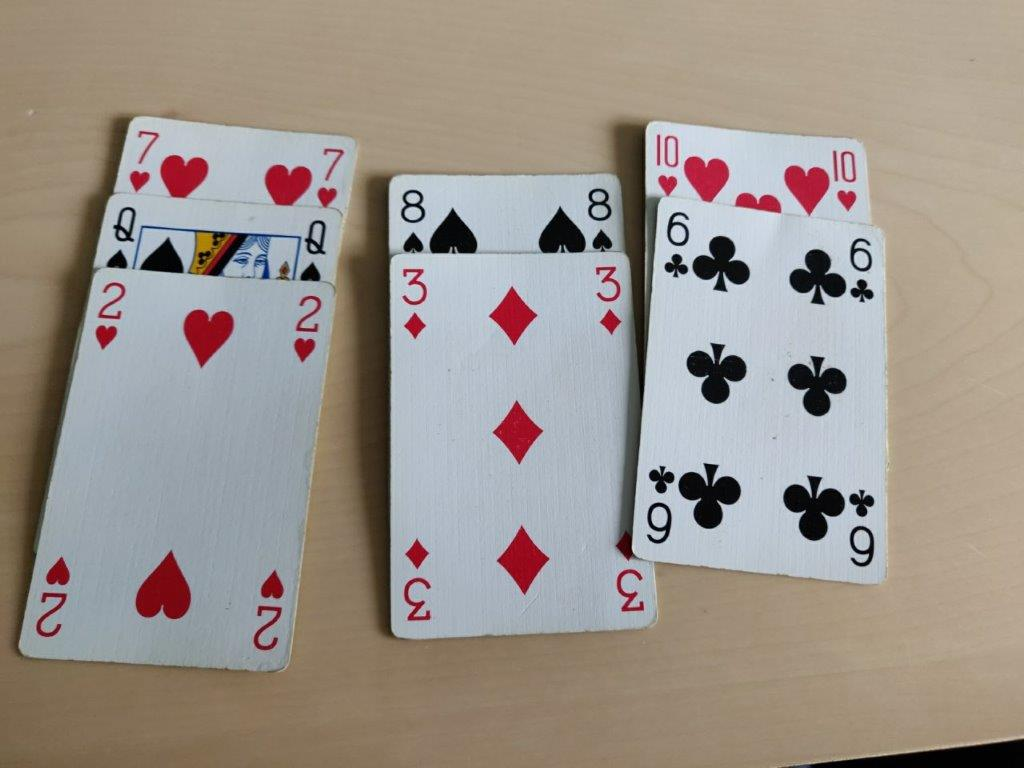10H: (654, 128, 684, 197), (829, 145, 859, 214)
2H: (91, 279, 129, 353), (286, 290, 324, 364)
3D: (395, 264, 433, 346), (591, 265, 629, 347)
6C: (662, 207, 692, 287), (846, 231, 876, 311)
7H: (126, 122, 160, 195), (313, 140, 347, 211)
8S: (393, 177, 429, 256), (584, 177, 620, 256)
QS: (100, 199, 141, 269), (293, 219, 332, 285)
